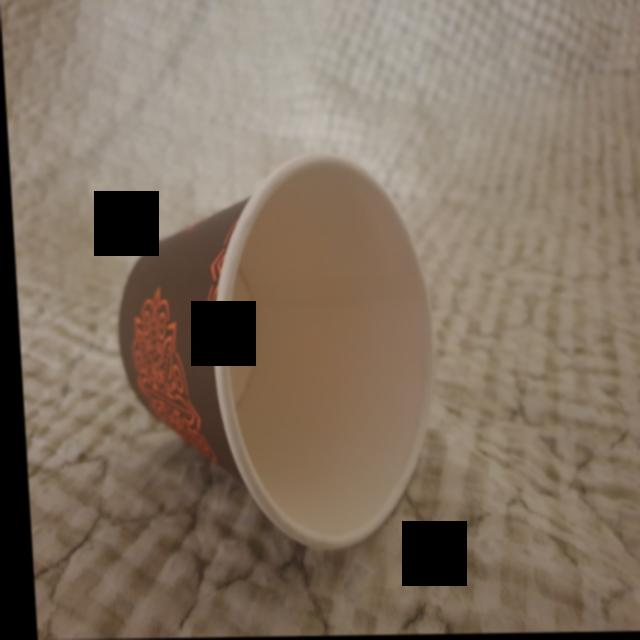cups: (102, 143, 442, 560)
